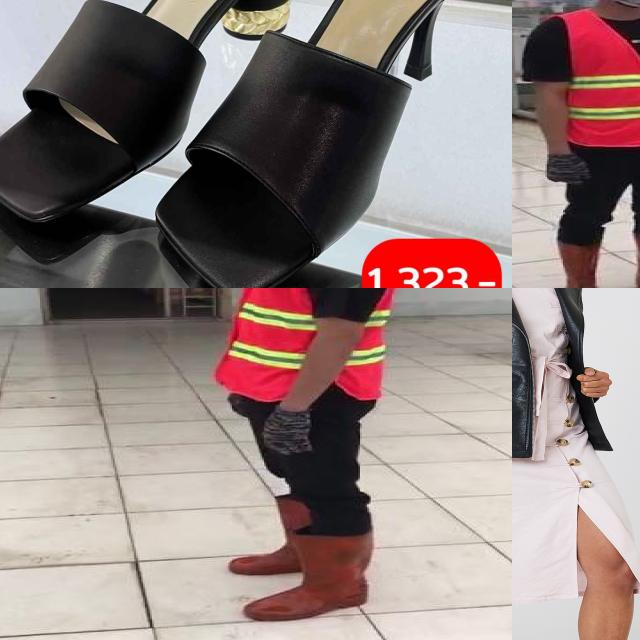Sandals: (0, 0, 512, 288)
boots: (241, 531, 388, 623), (222, 486, 340, 579), (553, 237, 611, 288)
hand_glove: (258, 408, 314, 456), (533, 153, 591, 187)
person: (185, 288, 418, 636), (514, 0, 640, 288)
vest: (214, 288, 400, 404), (552, 8, 640, 146)
